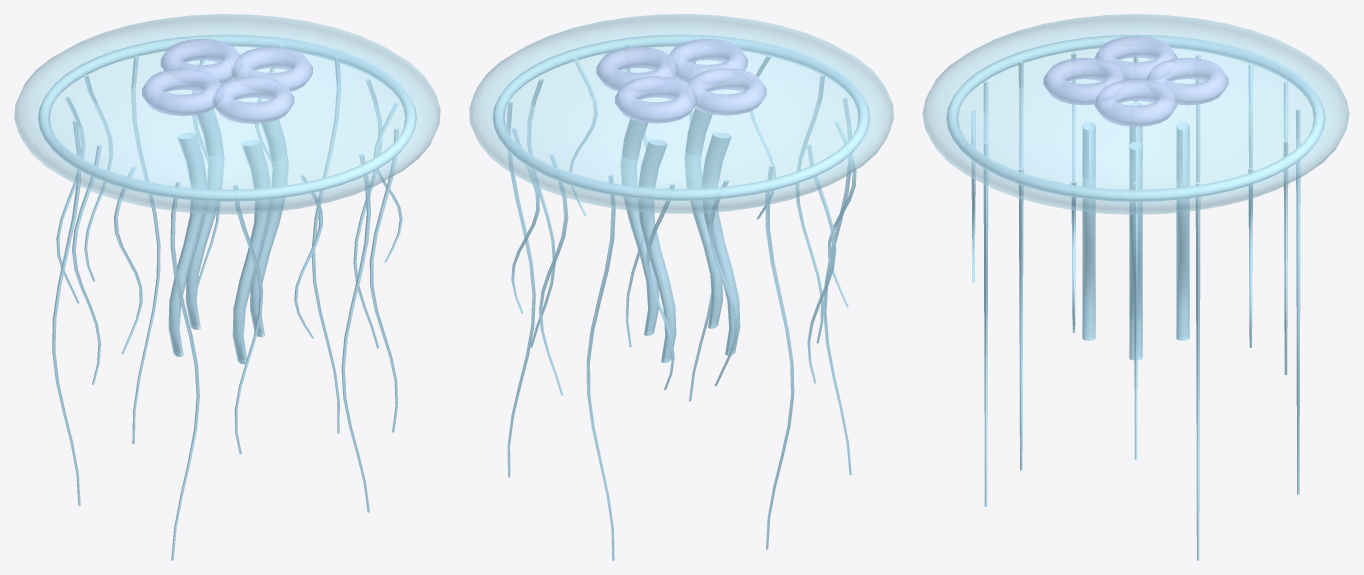
The model's file is moon_jelly.glb.
3 views of the same model, side by side, from view 1: azimuth 30°, elevation 25°; view 2: azimuth 150°, elevation 25°; view 3: azimuth 270°, elevation 25° (orthographic).
Visible parts, largest first — view 1: Pelagic.moon_jelly.Bell, Pelagic.moon_jelly.Threads, Pelagic.moon_jelly.Organs; view 2: Pelagic.moon_jelly.Bell, Pelagic.moon_jelly.Threads, Pelagic.moon_jelly.Organs; view 3: Pelagic.moon_jelly.Bell, Pelagic.moon_jelly.Threads, Pelagic.moon_jelly.Organs.
Boxes of the visible parts, box(x1,y1,x2,y2) form: Pelagic.moon_jelly.Bell: box(14, 14, 440, 214); Pelagic.moon_jelly.Threads: box(38, 34, 416, 560); Pelagic.moon_jelly.Organs: box(142, 39, 312, 123); Pelagic.moon_jelly.Bell: box(469, 14, 893, 213); Pelagic.moon_jelly.Threads: box(492, 34, 870, 560); Pelagic.moon_jelly.Organs: box(596, 38, 766, 123); Pelagic.moon_jelly.Bell: box(922, 14, 1349, 214); Pelagic.moon_jelly.Threads: box(946, 34, 1325, 560); Pelagic.moon_jelly.Organs: box(1043, 36, 1228, 126).
Bounding box in the file's own units: 1 × 1.17 × 1.
